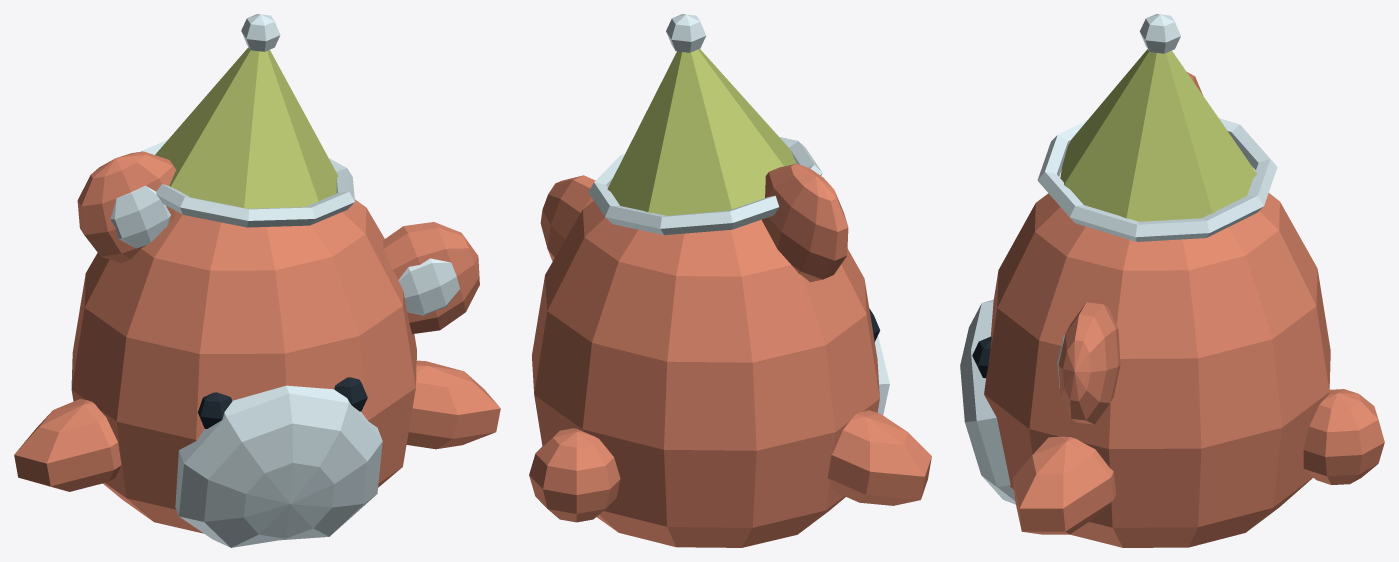
The model's file is blob-ocean-1.glb.
3 renders of one model, left to right at view 1: azimuth 30°, elevation 25°; view 2: azimuth 150°, elevation 25°; view 3: azimuth 270°, elevation 25°, orthographic. The views are drawn at different scales.
Parts seen in each view (by area): view 1: blob-ocean-1; view 2: blob-ocean-1; view 3: blob-ocean-1.
Part boxes in pixels (x1,y1,x2,y2): blob-ocean-1: (14,14,500,547); blob-ocean-1: (529,14,931,547); blob-ocean-1: (960,14,1384,547).
Bounding box in the file's own units: 0.8446 × 0.9 × 0.7092.
